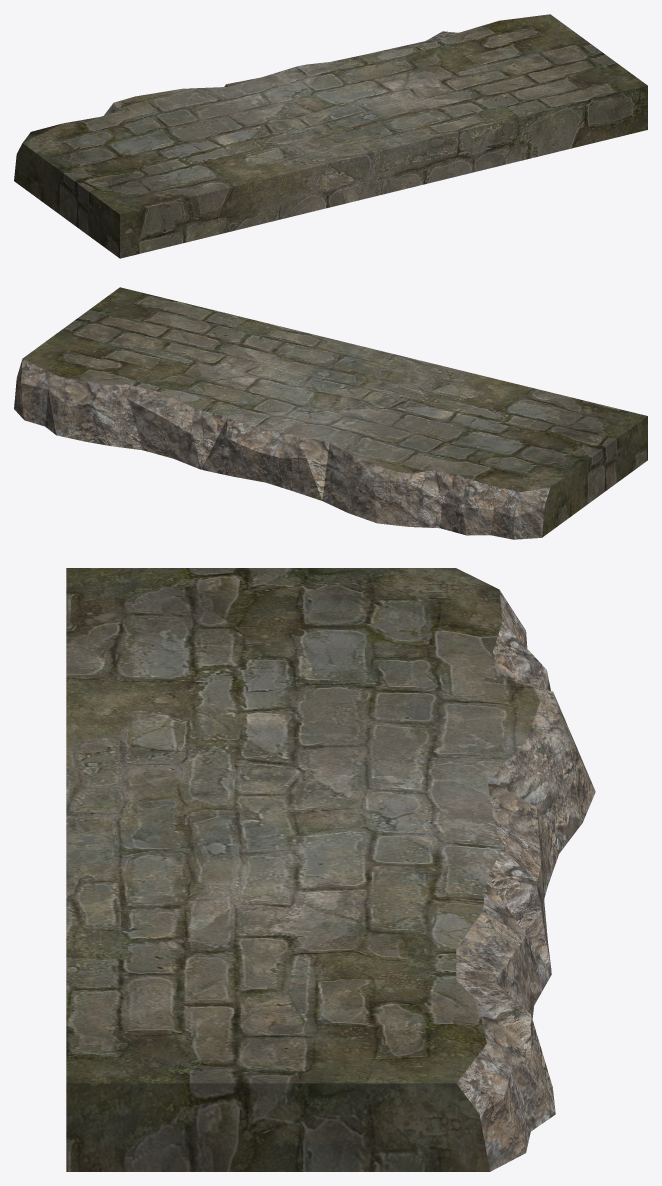
File: bg_lut_lutomb_brokenfloor02_sm_old.FBX
3 views of the same model, one above another, from view 1: azimuth 30°, elevation 25°; view 2: azimuth 150°, elevation 25°; view 3: azimuth 270°, elevation 25° (orthographic). The views are drawn at different scales.
Visible parts, largest first — view 1: bg_lut_lutomb_brokenfloor02_sm_old; view 2: bg_lut_lutomb_brokenfloor02_sm_old; view 3: bg_lut_lutomb_brokenfloor02_sm_old.
Part boxes in pixels (<box>): bg_lut_lutomb_brokenfloor02_sm_old: <box>14,14,647,258</box>; bg_lut_lutomb_brokenfloor02_sm_old: <box>14,287,647,539</box>; bg_lut_lutomb_brokenfloor02_sm_old: <box>66,568,595,1171</box>.
Bounding box in the file's own units: 800 × 64 × 347.
